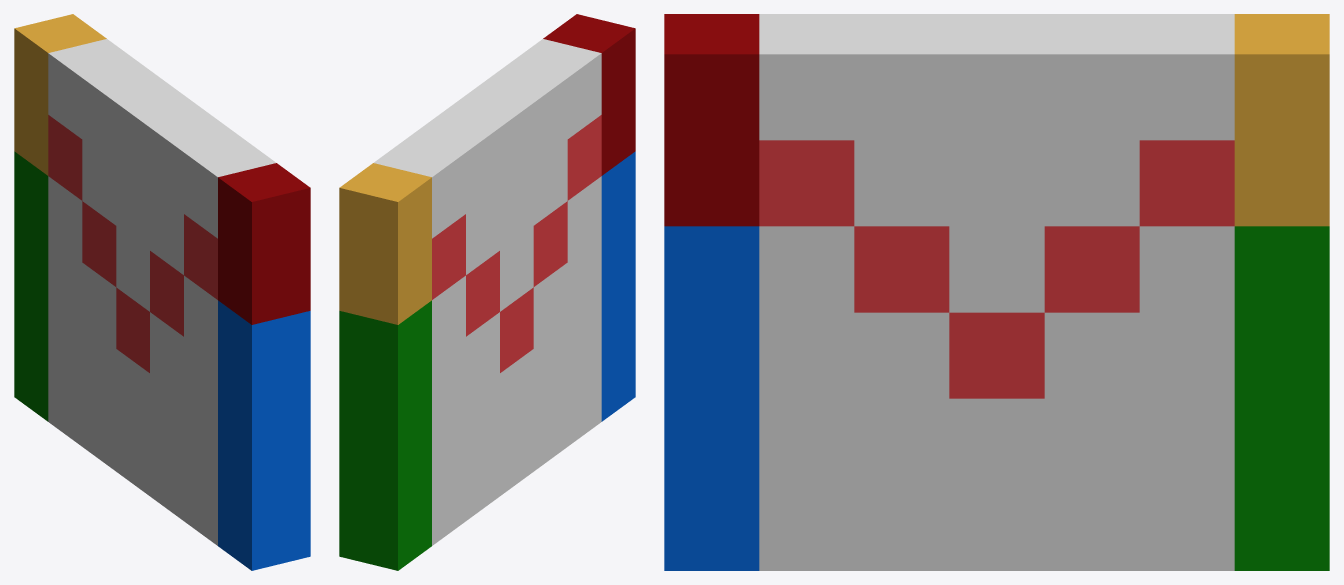
The model's file is gmail.fbx.
The picture shows the model from 3 angles, left to right: view 1: azimuth 30°, elevation 25°; view 2: azimuth 150°, elevation 25°; view 3: azimuth 270°, elevation 25°; orthographic projection. The views are drawn at different scales.
Parts seen in each view (by area): view 1: Cube.063; view 2: Cube.063; view 3: Cube.063.
Boxes of the visible parts, x1,y1,x2,y2 form: Cube.063: (14, 14, 310, 570); Cube.063: (339, 14, 635, 570); Cube.063: (664, 14, 1329, 570).
Bounding box in the file's own units: 200 × 1200 × 1400.
